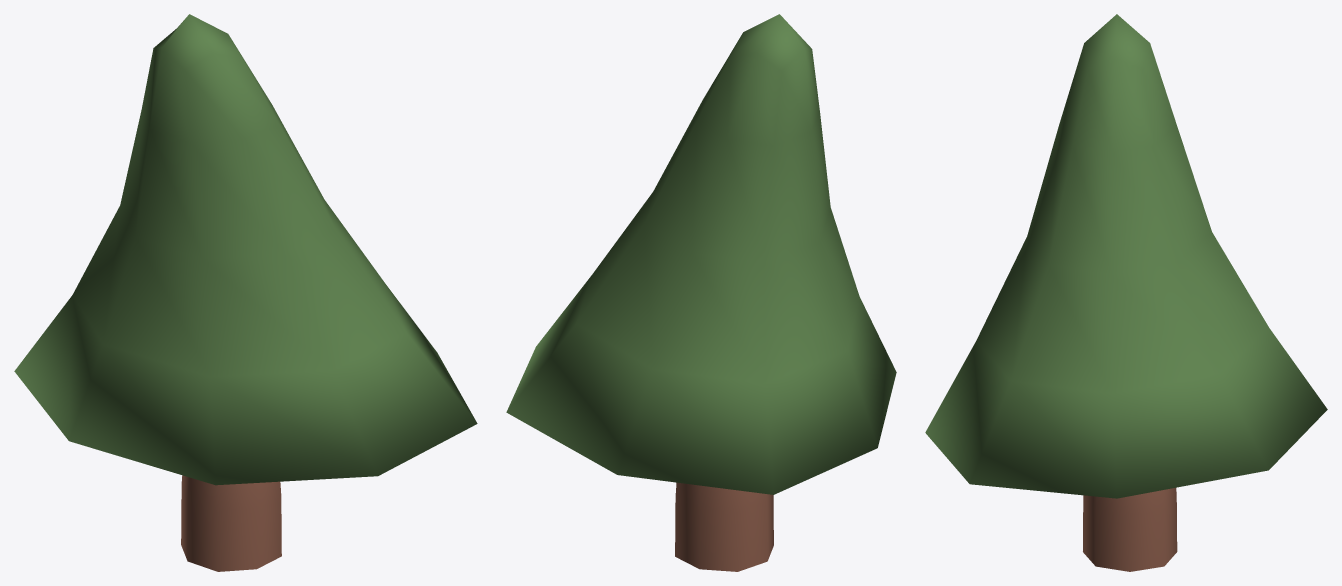
Rendered from Tree_small.fbx.
The picture shows the model from 3 angles, left to right: view 1: azimuth 30°, elevation 25°; view 2: azimuth 150°, elevation 25°; view 3: azimuth 270°, elevation 25°; orthographic projection. The views are drawn at different scales.
Parts seen in each view (by area): view 1: Tree_small; view 2: Tree_small; view 3: Tree_small.
Boxes of the visible parts, left/top/right/bottom form: Tree_small: left=14, top=14, right=477, bottom=571; Tree_small: left=506, top=14, right=896, bottom=571; Tree_small: left=925, top=14, right=1327, bottom=571.
Size of the model in its own units: 167 by 160 by 236.
